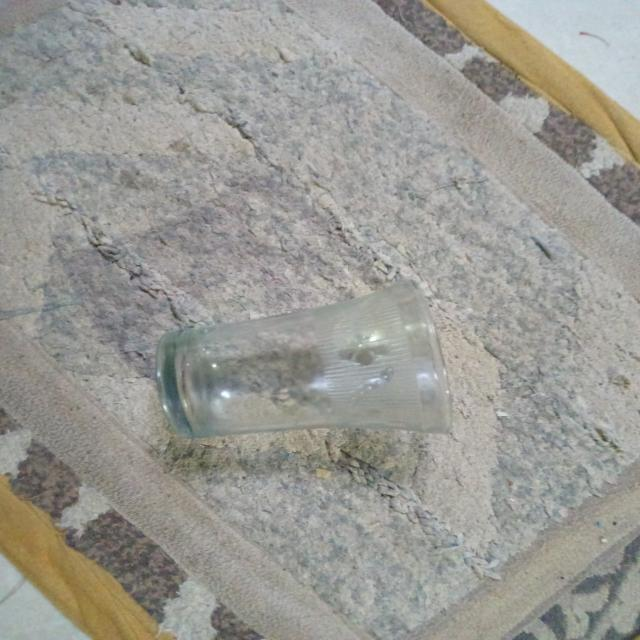Glass: (150, 276, 458, 440)
